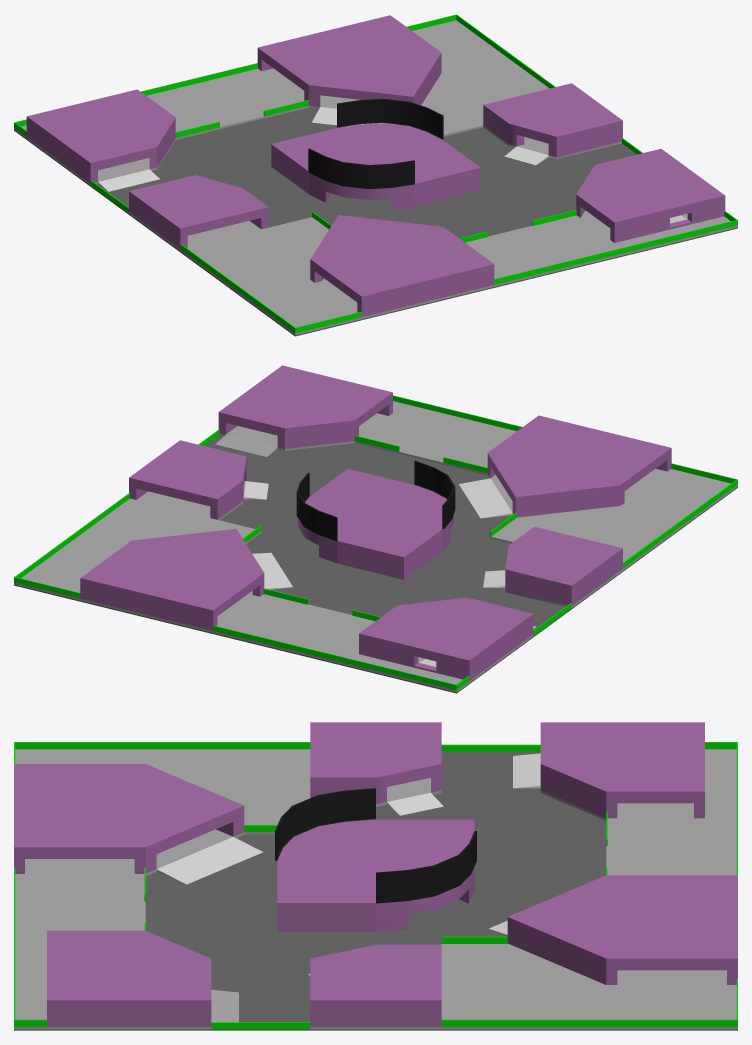
Rendered from arena04_r000.fbx.
3 renders of one model, top to bottom at view 1: azimuth 30°, elevation 25°; view 2: azimuth 150°, elevation 25°; view 3: azimuth 270°, elevation 25°, orthographic. The views are drawn at different scales.
Parts seen in each view (by area): view 1: floor, top_floor, top_floor1, top_building1, top_building4, top_building, top_building5, top_building3, top_building6, middle_building1, middle_building, middle_structure1 (+6 smaller); view 2: floor, top_floor, top_floor1, top_building4, top_building1, top_building5, top_building, top_building6, middle_building1, top_building3, middle_structure, middle_building (+8 smaller); view 3: floor, top_floor1, top_floor, top_building4, top_building1, top_building, top_building5, top_building3, middle_building1, top_building6, middle_building, middle_structure1 (+10 smaller).
Boxes of the visible parts, left/top/right/bottom form: floor: left=14, top=107, right=737, bottom=336; top_floor: left=129, top=210, right=737, bottom=335; top_floor1: left=14, top=20, right=621, bottom=185; top_building1: left=310, top=215, right=494, bottom=316; top_building4: left=257, top=15, right=441, bottom=106; top_building: left=576, top=149, right=725, bottom=242; top_building5: left=26, top=89, right=175, bottom=183; top_building3: left=483, top=83, right=622, bottom=157; top_building6: left=129, top=175, right=268, bottom=248; middle_building1: left=309, top=123, right=441, bottom=209; middle_building: left=308, top=98, right=443, bottom=189; middle_structure1: left=414, top=140, right=480, bottom=206; floor: left=14, top=435, right=737, bottom=693; top_floor: left=219, top=401, right=737, bottom=607; top_floor1: left=14, top=478, right=533, bottom=692; top_building4: left=80, top=529, right=264, bottom=630; top_building1: left=487, top=415, right=671, bottom=517; top_building5: left=359, top=597, right=533, bottom=680; top_building: left=218, top=365, right=392, bottom=448; top_building6: left=505, top=526, right=622, bottom=605; middle_building1: left=298, top=485, right=453, bottom=563; top_building3: left=129, top=440, right=246, bottom=519; middle_structure: left=337, top=529, right=442, bottom=579; middle_building: left=296, top=460, right=455, bottom=541; floor: left=14, top=752, right=737, bottom=1030; top_floor1: left=310, top=749, right=737, bottom=1029; top_floor: left=14, top=749, right=441, bottom=1029; top_building4: left=507, top=875, right=737, bottom=984; top_building1: left=14, top=764, right=244, bottom=873; top_building: left=47, top=930, right=211, bottom=1026; top_building5: left=540, top=722, right=704, bottom=818; top_building3: left=310, top=944, right=441, bottom=1026; middle_building1: left=277, top=819, right=474, bottom=931; top_building6: left=310, top=722, right=441, bottom=804; middle_building: left=275, top=788, right=476, bottom=903; middle_structure1: left=277, top=861, right=375, bottom=931.
Size of the model in its own units: 450 by 46 by 495.
